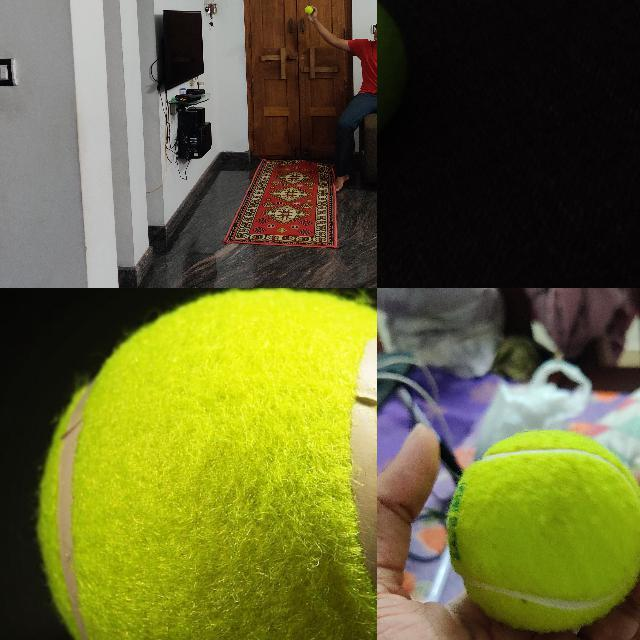tennis-ball: (36, 288, 376, 639), (445, 429, 639, 634), (304, 6, 312, 14)
